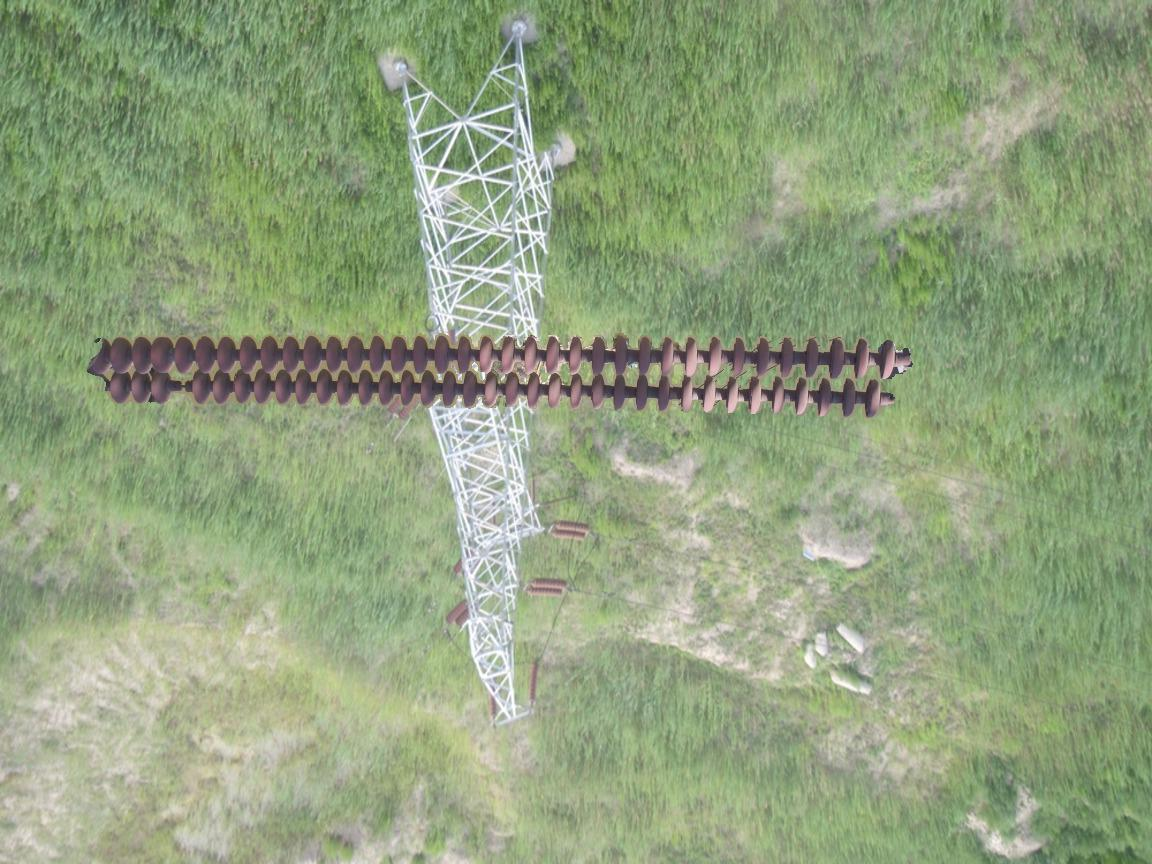insulator: (94, 329, 907, 421), (548, 516, 594, 545), (526, 575, 572, 598), (525, 658, 545, 704), (444, 598, 473, 629)
insulator_stringdrop: (148, 367, 213, 409)
